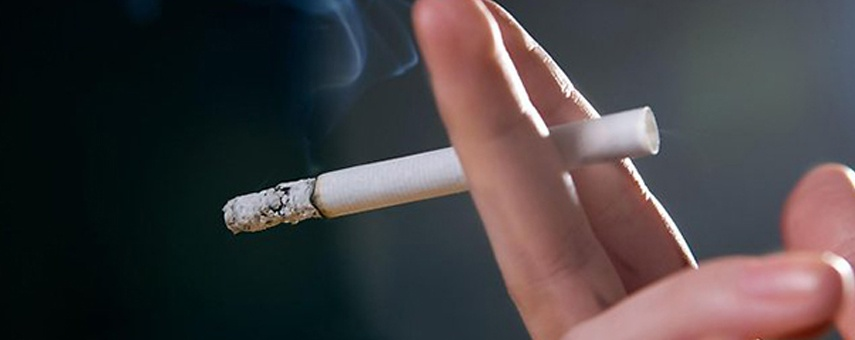sigaretta: (210, 100, 660, 225)
